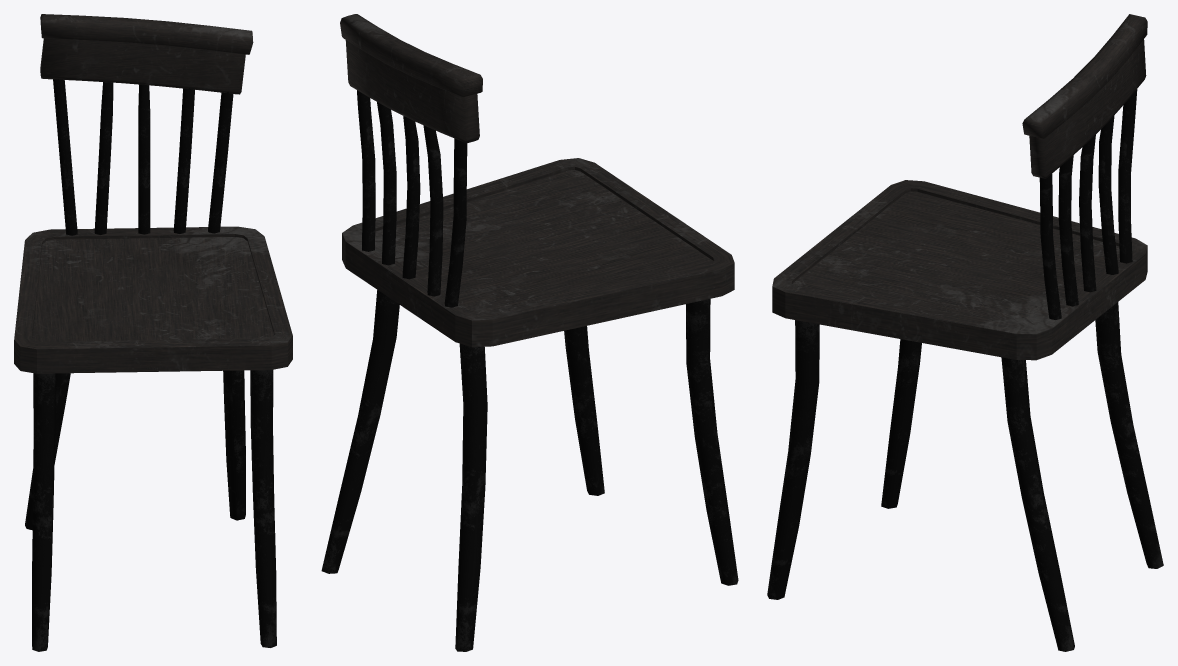
Rendered from Kitchen_chair_1.fbx.
3 renders of one model, left to right at view 1: azimuth 30°, elevation 25°; view 2: azimuth 150°, elevation 25°; view 3: azimuth 270°, elevation 25°, orthographic. The views are drawn at different scales.
Parts seen in each view (by area): view 1: Cylinder.005; view 2: Cylinder.005; view 3: Cylinder.005.
Boxes of the visible parts, x1,y1,x2,y2 form: Cylinder.005: (14,14,292,651); Cylinder.005: (321,14,738,651); Cylinder.005: (767,14,1163,651).
Bounding box in the file's own units: 57.59 × 94.88 × 61.77.
